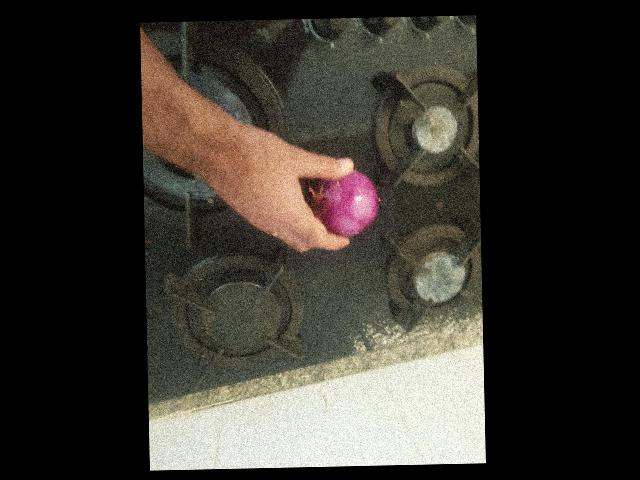onion: (379, 298, 443, 362)
